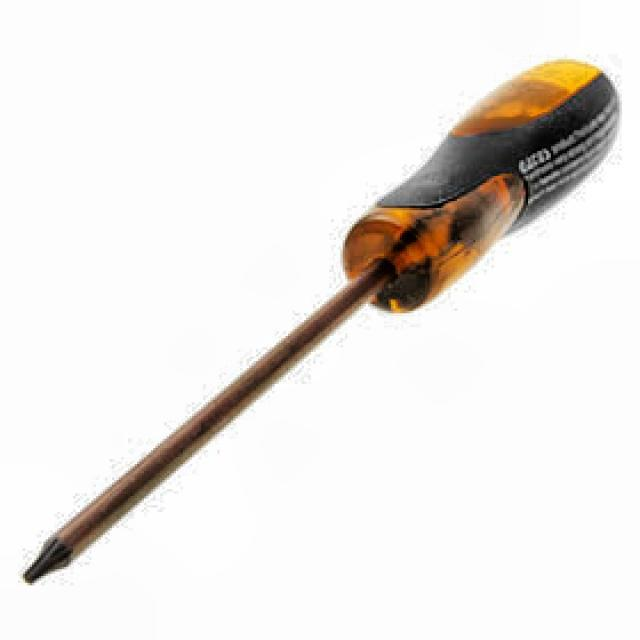screwdriver: (23, 59, 620, 585)
